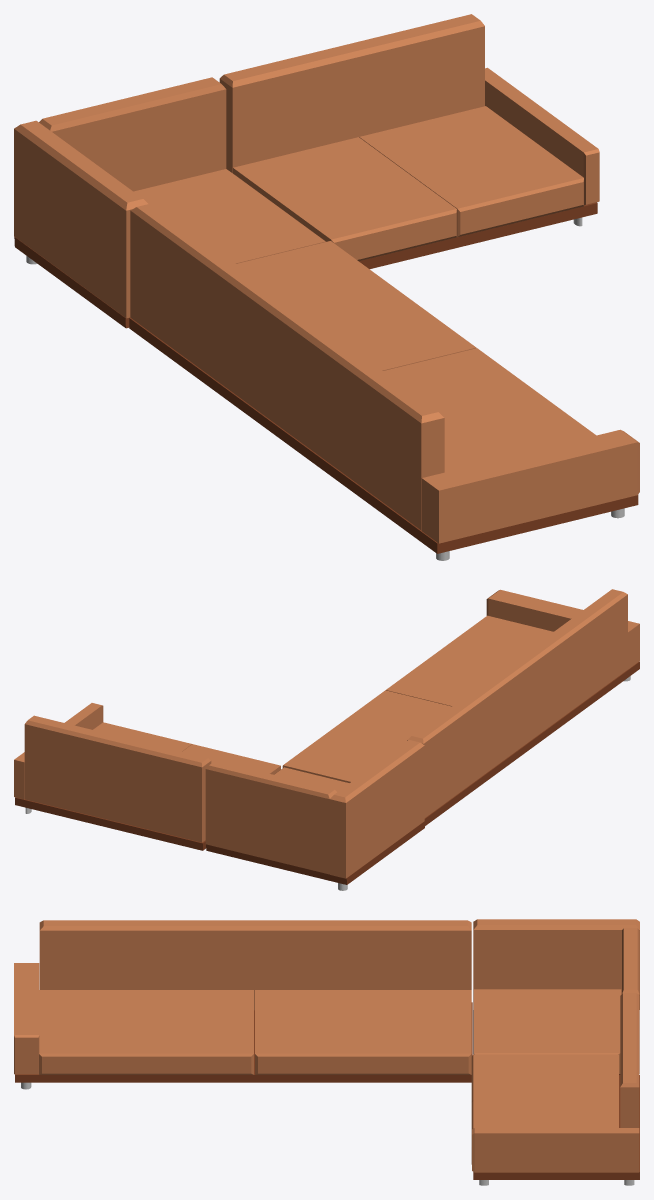
File: couch.fbx
3 renders of one model, top to bottom at view 1: azimuth 30°, elevation 25°; view 2: azimuth 150°, elevation 25°; view 3: azimuth 270°, elevation 25°, orthographic. The views are drawn at different scales.
Visible parts, largest first — view 1: Couch_1, Couch_1.001, Cube; view 2: Couch_1, Cube, Couch_1.001; view 3: Couch_1, Couch_1.001, Cube.
Boxes of the visible parts, <box> form: Couch_1: <box>129,203,639,560</box>; Couch_1.001: <box>219,14,599,269</box>; Cube: <box>14,77,325,328</box>; Couch_1: <box>282,589,639,825</box>; Cube: <box>205,740,424,890</box>; Couch_1.001: <box>14,703,280,850</box>; Couch_1: <box>14,920,472,1089</box>; Couch_1.001: <box>471,993,639,1185</box>; Cube: <box>473,919,639,1074</box>.
Bounding box in the file's own units: 578 × 158 × 892.
